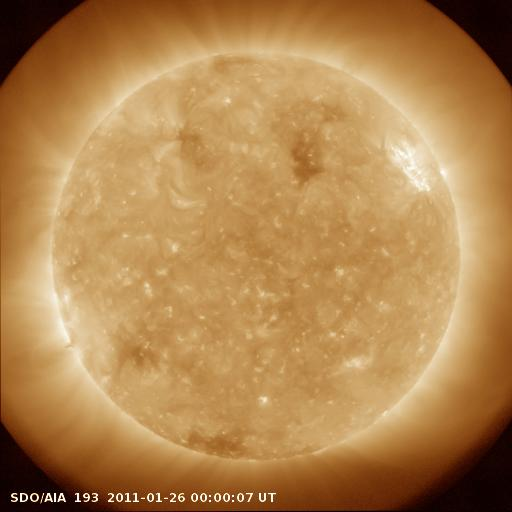coronal_hole: (285, 133, 328, 184)
